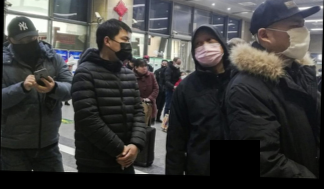with_mask: (270, 22, 311, 60), (192, 37, 224, 68), (11, 36, 39, 60), (109, 35, 134, 60), (173, 58, 181, 70), (160, 61, 168, 70), (179, 72, 187, 81)
without_mask: (137, 64, 147, 76)
